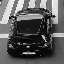motor: (12, 4, 54, 57)
